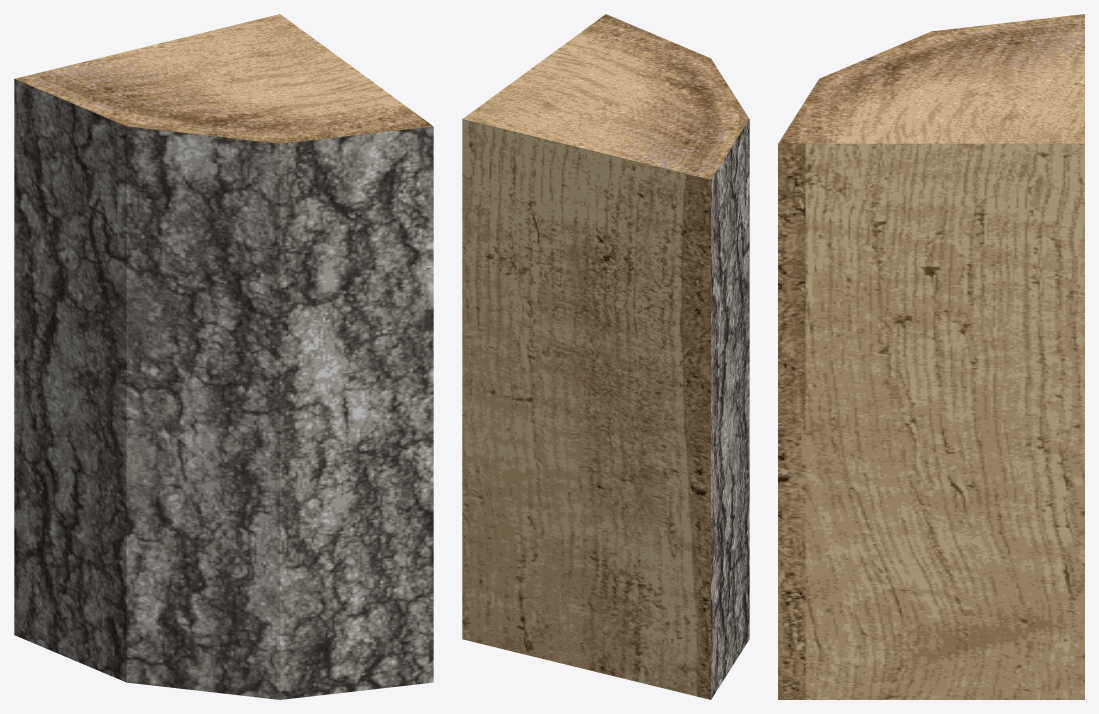
The model's file is quarter-log.glb.
The picture shows the model from 3 angles, left to right: view 1: azimuth 30°, elevation 25°; view 2: azimuth 150°, elevation 25°; view 3: azimuth 270°, elevation 25°; orthographic projection. The views are drawn at different scales.
Parts seen in each view (by area): view 1: Cylinder; view 2: Cylinder; view 3: Cylinder.
Boxes of the visible parts, x1=… form: Cylinder: x1=14, y1=14, x2=433, y2=699; Cylinder: x1=462, y1=14, x2=749, y2=699; Cylinder: x1=778, y1=14, x2=1084, y2=699.
Size of the model in its own units: 1 by 2 by 1.
3 materials, 3 textured.
